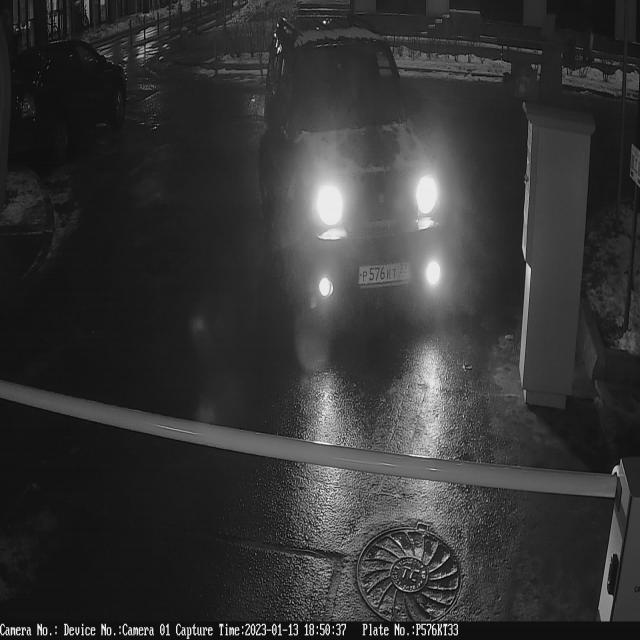car-plate-numbers: (357, 260, 411, 290)
